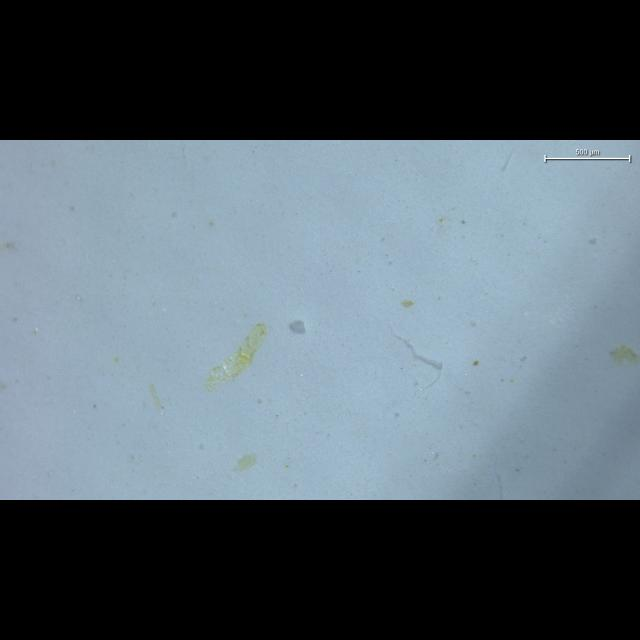Fibre: (389, 325, 442, 390)
Fragment: (289, 320, 305, 334)
